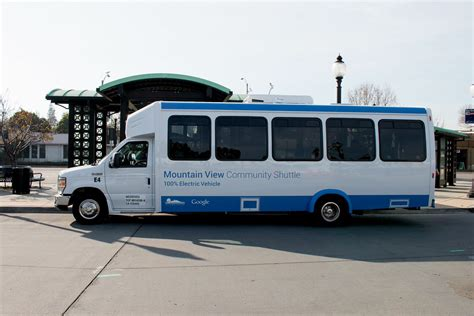bus: (58, 100, 437, 225)
